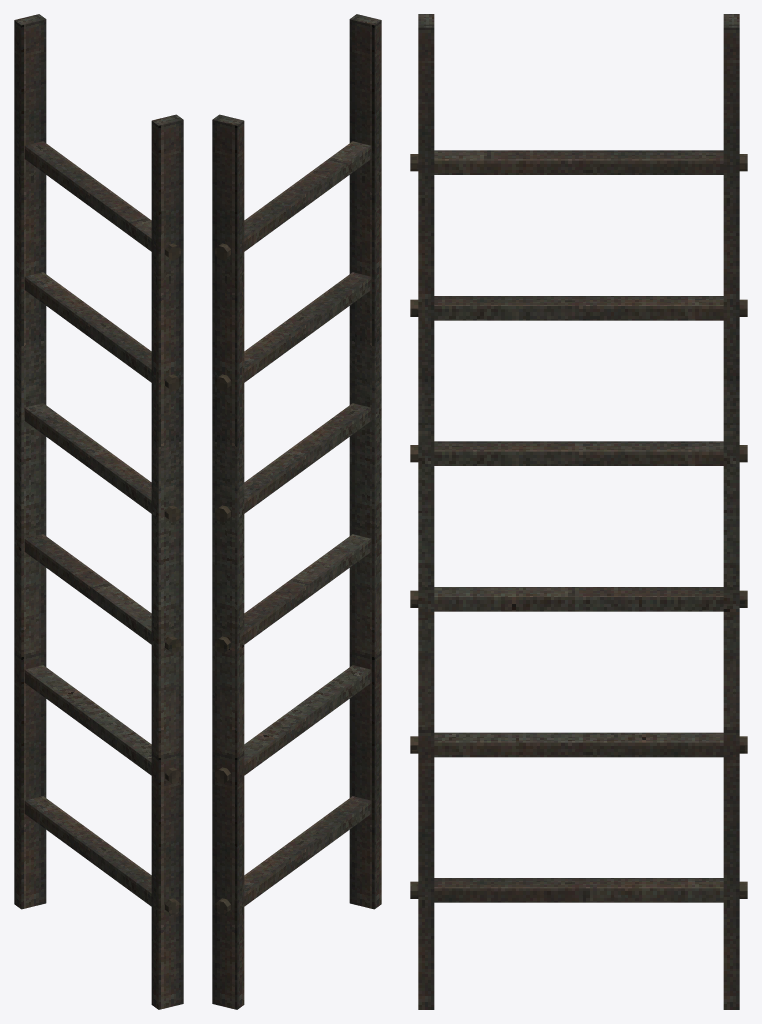
The model's file is ladder_hr_1_short.glb.
3 renders of one model, left to right at view 1: azimuth 30°, elevation 25°; view 2: azimuth 150°, elevation 25°; view 3: azimuth 270°, elevation 25°, orthographic. The views are drawn at different scales.
Parts seen in each view (by area): view 1: ladder_hr_1_short; view 2: ladder_hr_1_short; view 3: ladder_hr_1_short.
Part boxes in pixels (bbox=[...]): ladder_hr_1_short: bbox=[14, 14, 183, 1009]; ladder_hr_1_short: bbox=[212, 14, 381, 1009]; ladder_hr_1_short: bbox=[410, 14, 747, 1009].
Size of the model in its own units: 0.08 by 2.7 by 0.84.
Materials: 1 (1 with a texture image).
